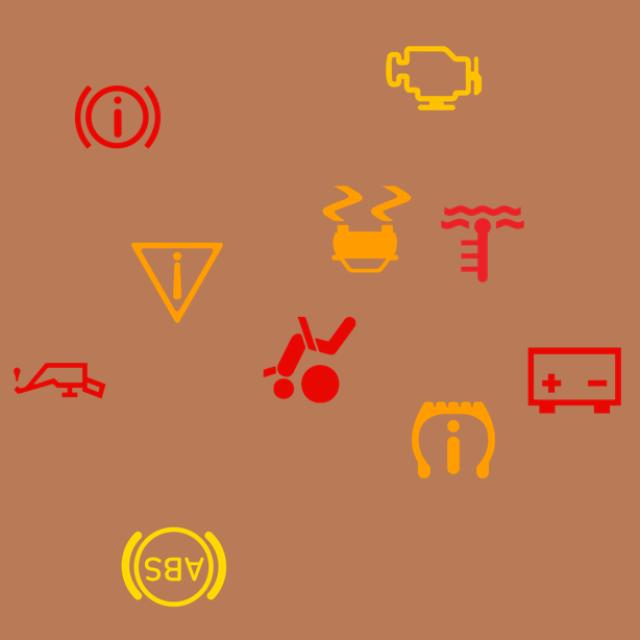Anti Lock Braking System: (117, 510, 231, 624)
Braking System Issue: (61, 60, 175, 174)
Charging System Issue: (518, 323, 632, 438)
Check Engine: (376, 21, 491, 135)
Electronic Stability Problem -ESP-: (310, 172, 424, 286)
Engine Overheating Warning Light: (426, 187, 540, 301)
Low Engine Oil Warning Light: (2, 323, 116, 438)
Low Tire Pressure Warning Light: (396, 383, 511, 497)
Master warning light: (120, 226, 234, 340)
SRS-Airbag: (252, 303, 366, 417)
